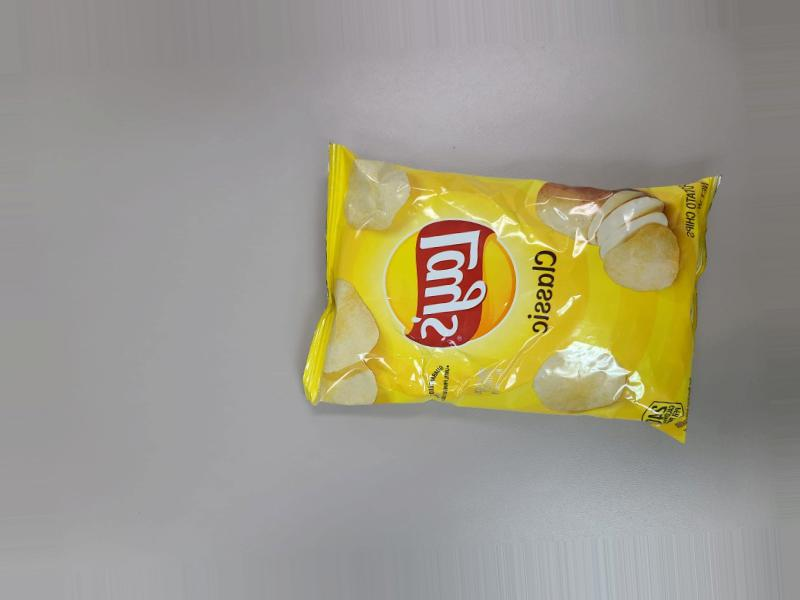lays: (290, 167, 689, 447)
